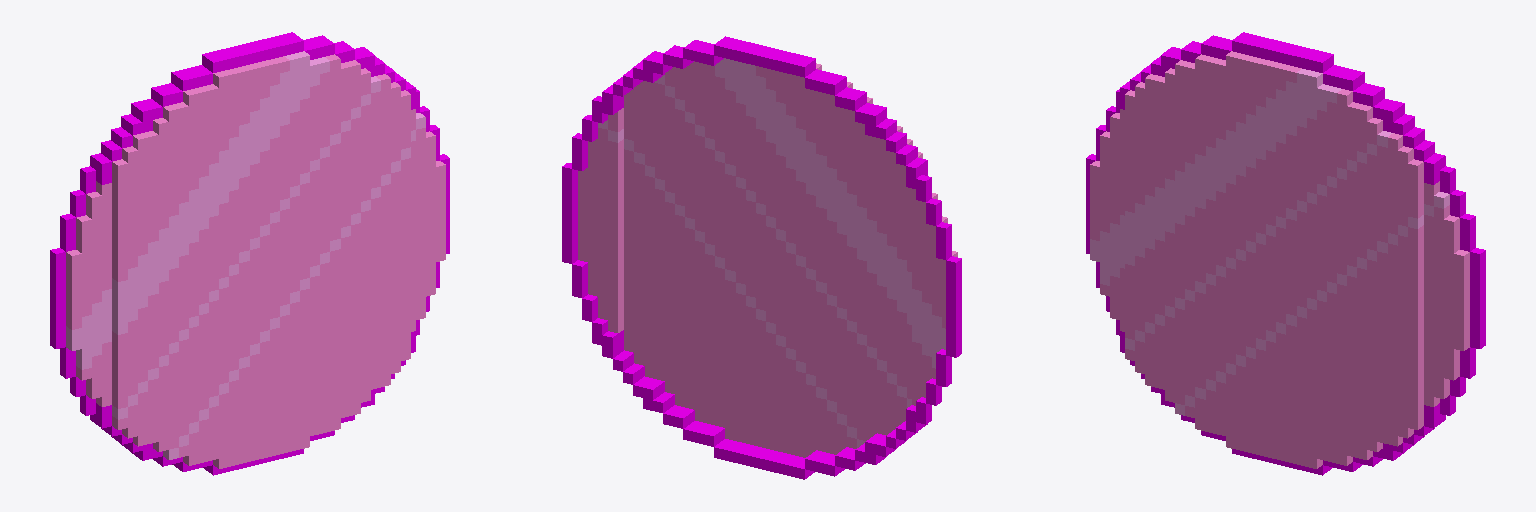
The picture shows the model from 3 angles: view 1: azimuth 30°, elevation 25°; view 2: azimuth 150°, elevation 25°; view 3: azimuth 330°, elevation 25°; orthographic projection.
Visible parts, largest first — view 1: object 1; view 2: object 1; view 3: object 1.
Part boxes in pixels (x1,y1,x2,y2): object 1: (50, 32, 449, 475); object 1: (562, 36, 961, 479); object 1: (1086, 32, 1485, 475).
Size of the model in its own units: 3.9 by 3.9 by 0.3.
1 materials, 1 textured.